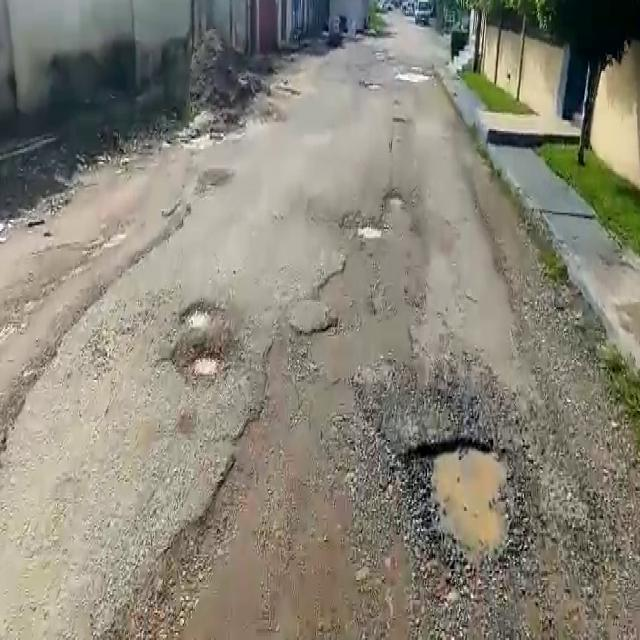pothole: (408, 436, 523, 572), (186, 348, 225, 380), (181, 300, 219, 332), (357, 220, 383, 242), (383, 188, 406, 212)
